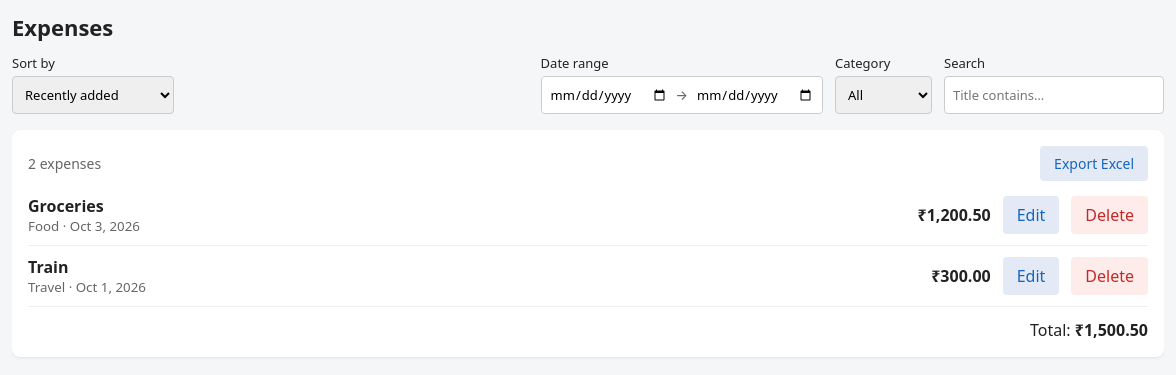
Test: ExpenseListComponent › with expenses › shows the empty state after the last expense is deleted
Step 1. Click the button with class "btn-danger" in the row of "Groceries" → x=1110, y=215, box left=1071, top=196, right=1148, bottom=234
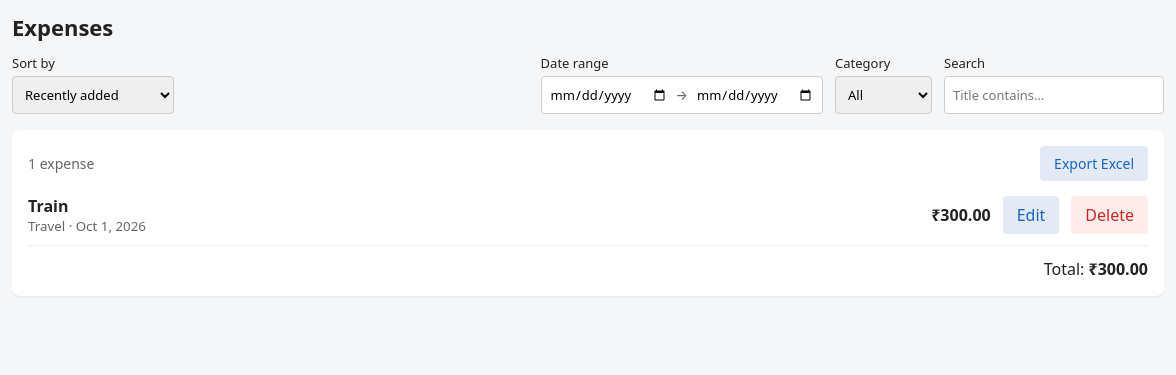
Step 2. Click the button with class "btn-danger" → x=1110, y=215, box left=1071, top=196, right=1148, bottom=234
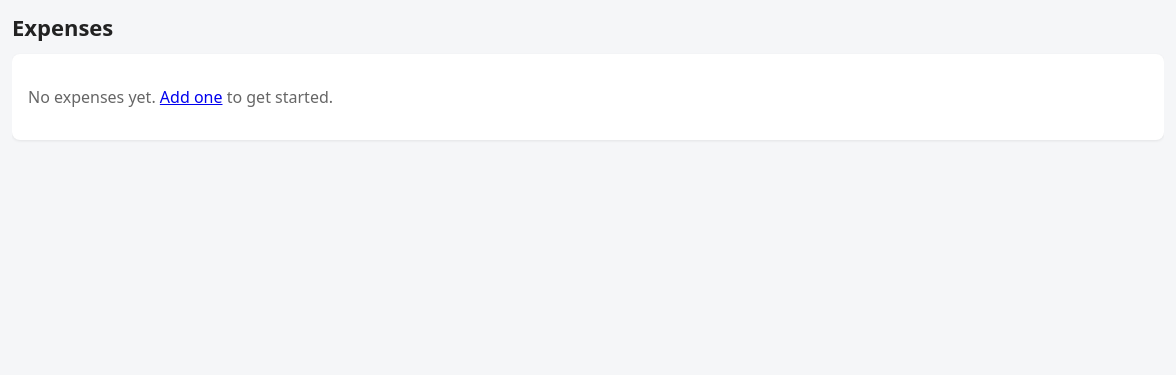
Check: the link "Add one" is shown, box left=160, top=86, right=222, bottom=108
